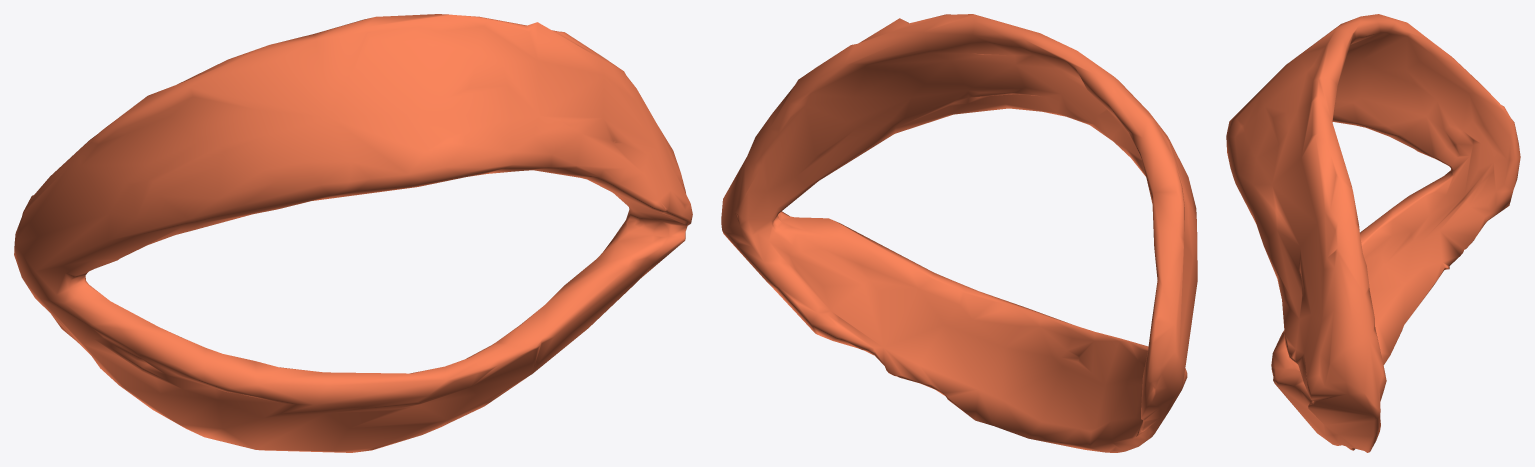
The model's file is Orbicularis_oculi_palpebral_part_right.glb.
3 views of the same model, side by side, from view 1: azimuth 30°, elevation 25°; view 2: azimuth 150°, elevation 25°; view 3: azimuth 270°, elevation 25° (orthographic). The views are drawn at different scales.
Parts seen in each view (by area): view 1: Palpebral_part_of_orbicularis_oculi.r_Generated_Mesh_From_X3; view 2: Palpebral_part_of_orbicularis_oculi.r_Generated_Mesh_From_X3; view 3: Palpebral_part_of_orbicularis_oculi.r_Generated_Mesh_From_X3.
Boxes of the visible parts, box(x1,y1,x2,y2) form: Palpebral_part_of_orbicularis_oculi.r_Generated_Mesh_From_X3: box(14, 14, 692, 452); Palpebral_part_of_orbicularis_oculi.r_Generated_Mesh_From_X3: box(721, 14, 1197, 452); Palpebral_part_of_orbicularis_oculi.r_Generated_Mesh_From_X3: box(1226, 14, 1520, 452).
Size of the model in its own units: 0.0337 by 0.0242 by 0.0173.
